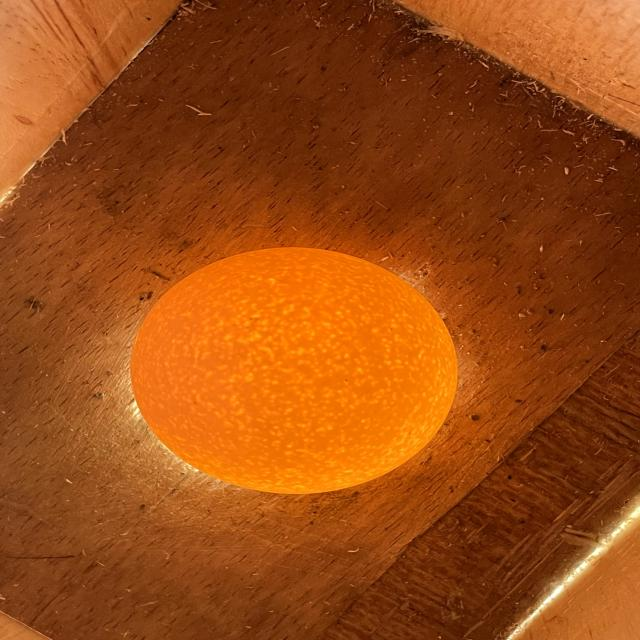infertile: (132, 248, 457, 494)
